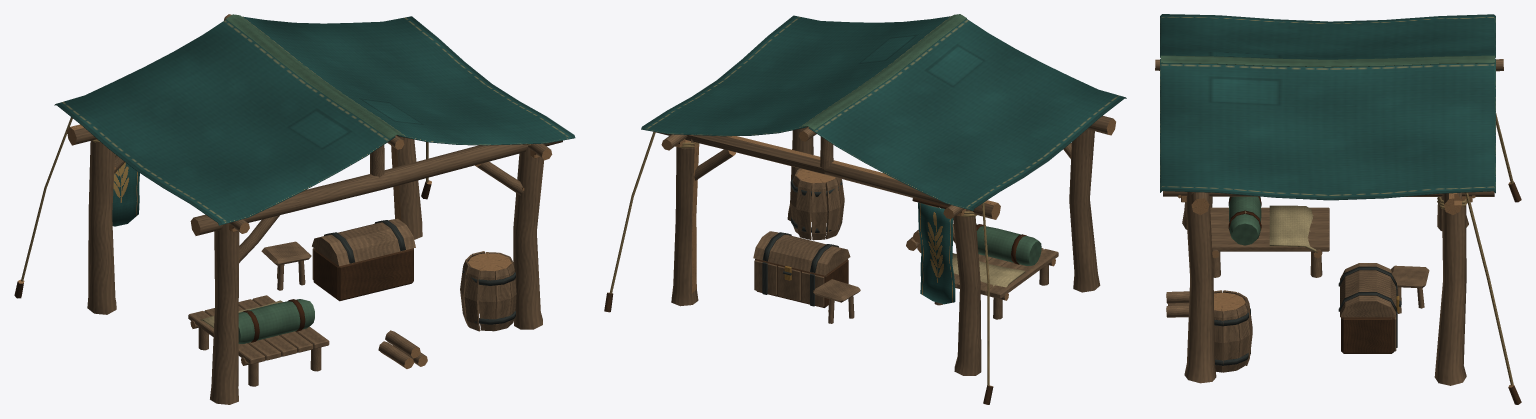
File: camp-low-r5.glb
3 views of the same model, side by side, from view 1: azimuth 30°, elevation 25°; view 2: azimuth 150°, elevation 25°; view 3: azimuth 270°, elevation 25° (orthographic). The views are drawn at different scales.
Visible parts, largest first — view 1: campShelter_authored_mesh; view 2: campShelter_authored_mesh; view 3: campShelter_authored_mesh.
Boxes of the visible parts, bbox=[...] form: campShelter_authored_mesh: bbox=[14, 14, 575, 404]; campShelter_authored_mesh: bbox=[604, 14, 1126, 404]; campShelter_authored_mesh: bbox=[1155, 14, 1521, 404].
Size of the model in its own units: 6.35 by 3.55 by 4.78.
Materials: 1 (1 with a texture image).
